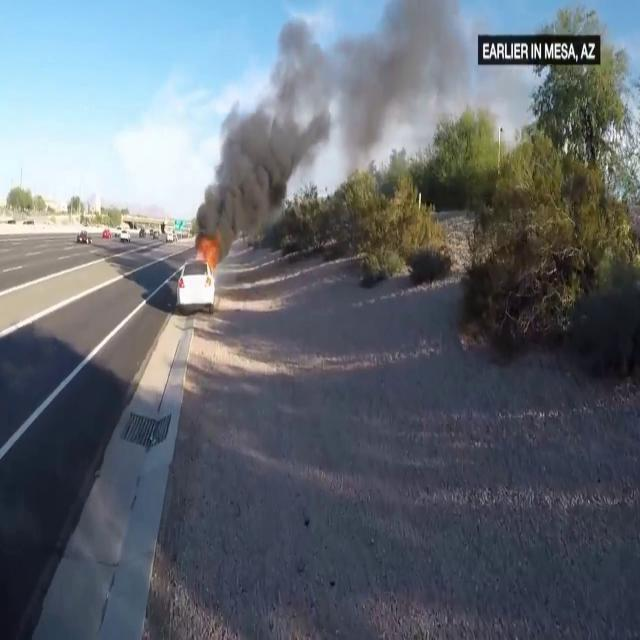Fire: (195, 237, 221, 287)
Smoke: (192, 10, 340, 252), (330, 1, 463, 179)
